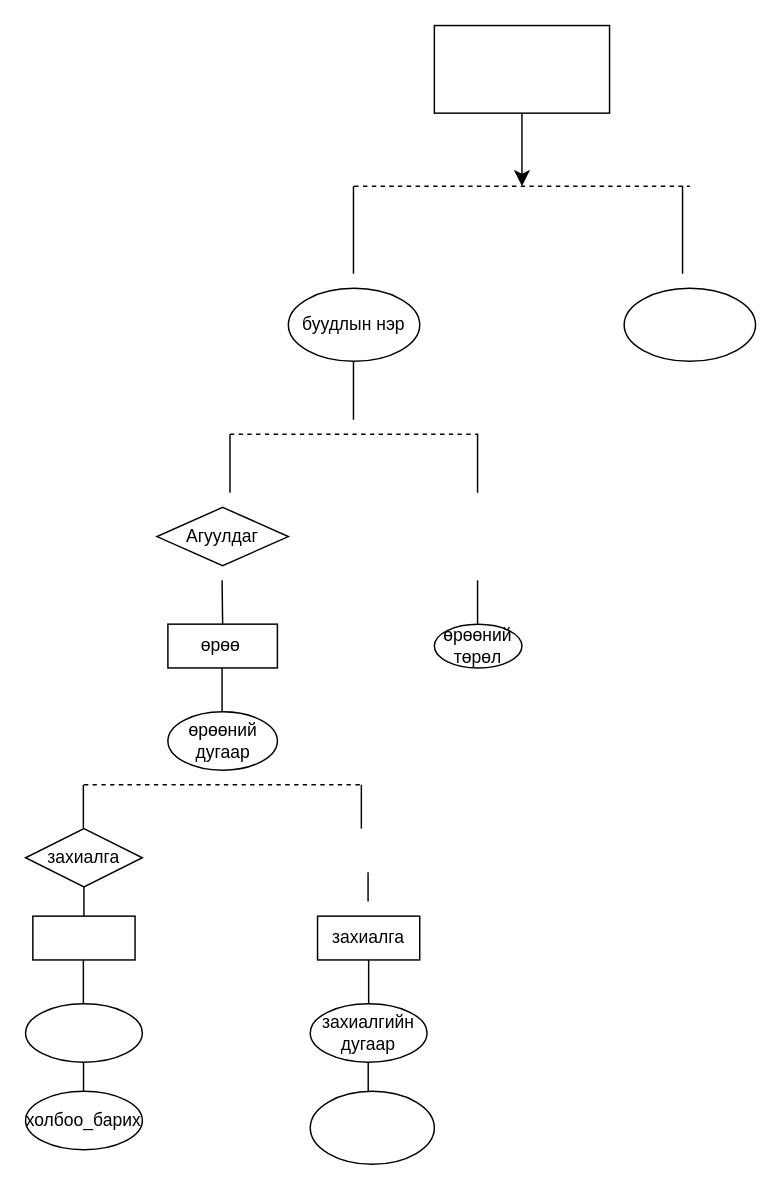
Some shapes in this 781 by 1190 pixel diagram are drawn without their labels. Here are the shapes that lost their labels. From the top down, the centre of each, then its label:
At point (521, 68): "буудал".
At point (689, 324): "байршил".
At point (83, 937): "зочин".
At point (83, 1032): "зочин_нэр".
At point (371, 1127): "эхлэх огноо, дуусах огноо".
